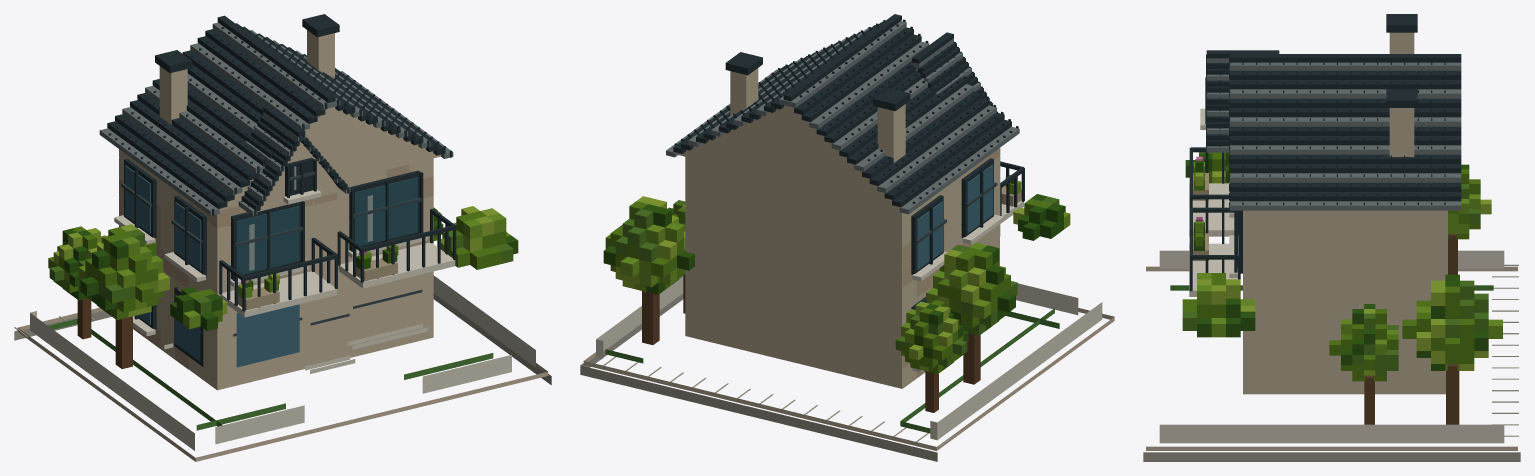
File: SM_StreetFrontage_014.fbx
3 renders of one model, left to right at view 1: azimuth 30°, elevation 25°; view 2: azimuth 150°, elevation 25°; view 3: azimuth 270°, elevation 25°, orthographic. The views are drawn at different scales.
Visible parts, largest first — view 1: SM_StreetFrontage_014; view 2: SM_StreetFrontage_014; view 3: SM_StreetFrontage_014.
Boxes of the visible parts, left/top/right/bottom form: SM_StreetFrontage_014: left=14, top=14, right=551, bottom=461; SM_StreetFrontage_014: left=580, top=14, right=1114, bottom=461; SM_StreetFrontage_014: left=1143, top=14, right=1520, bottom=461.
Size of the model in its own units: 7.99 by 6.87 by 6.33.
